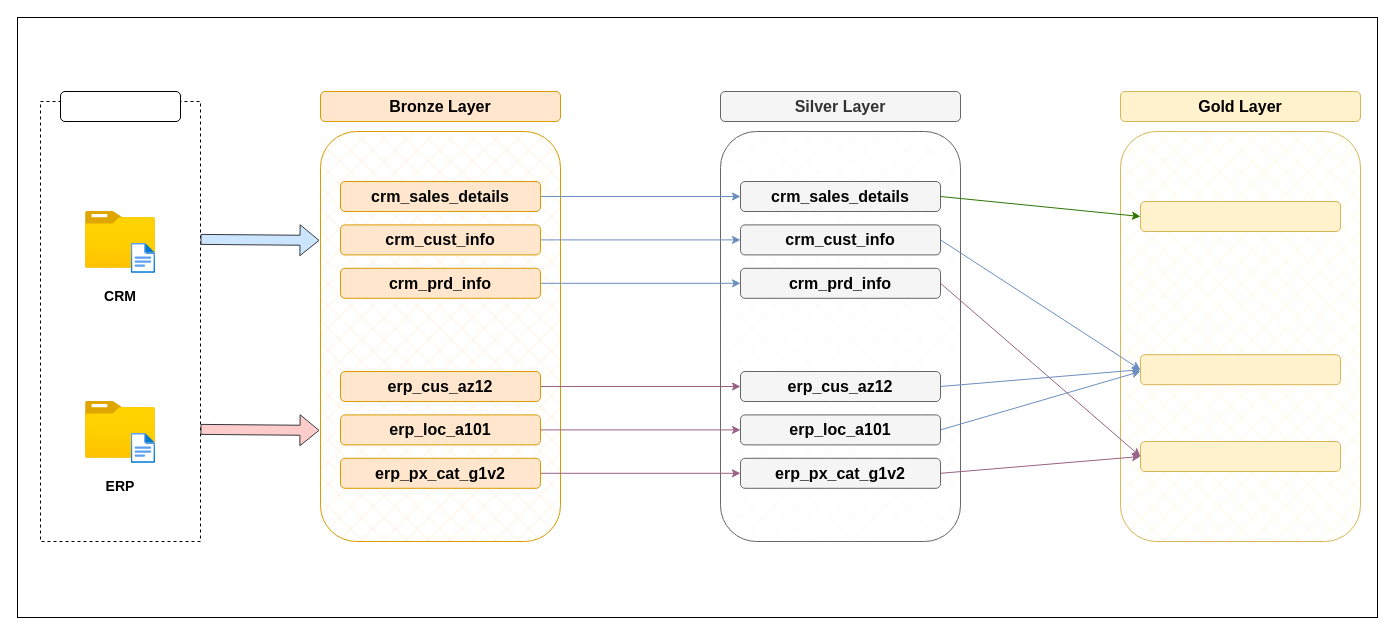
Some shapes in this 1395 by 635 pixel diagram are drawn without their labels. The shapes that lost their labels are listed below. From the top down, each one's box as (x1, y1, x2, y2) in pixels, then its label:
(60, 90, 180, 122): Sourced
(1140, 200, 1340, 232): fact_sales
(1140, 354, 1340, 385): dim_customers
(1140, 440, 1340, 472): dim_products
